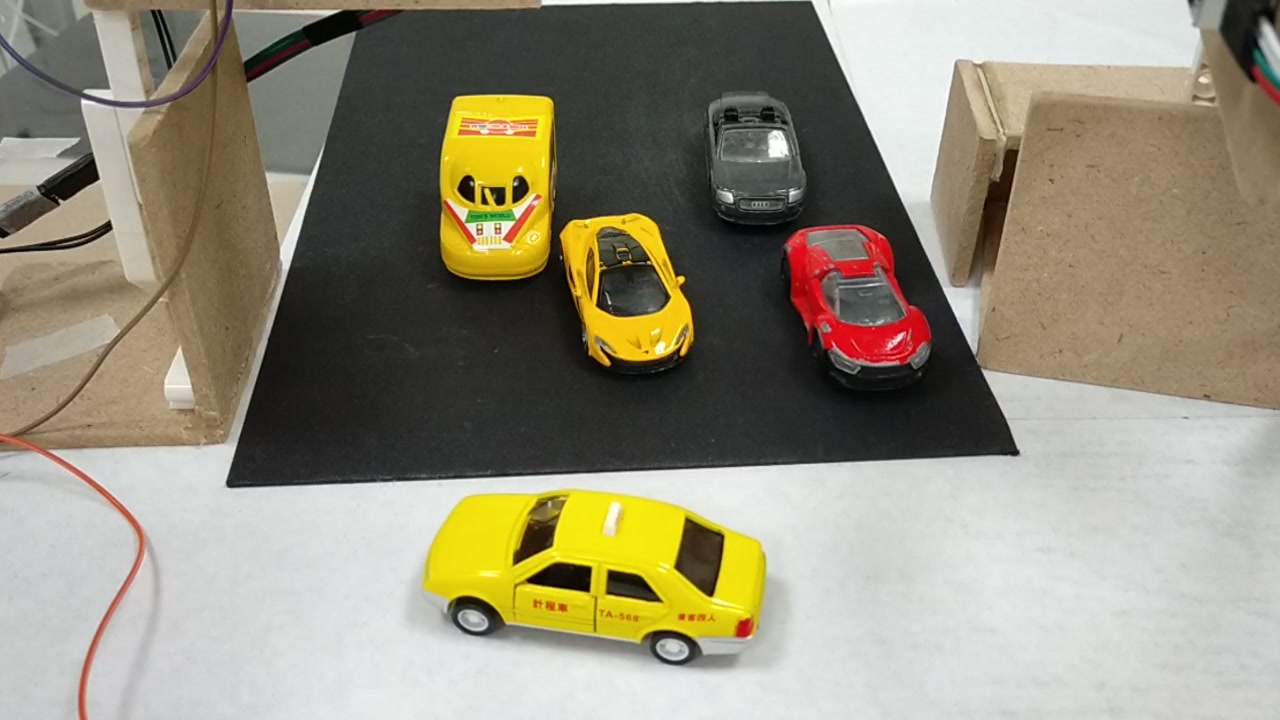car: (425, 497, 768, 664), (785, 224, 933, 383), (554, 217, 703, 372), (699, 91, 806, 222)
